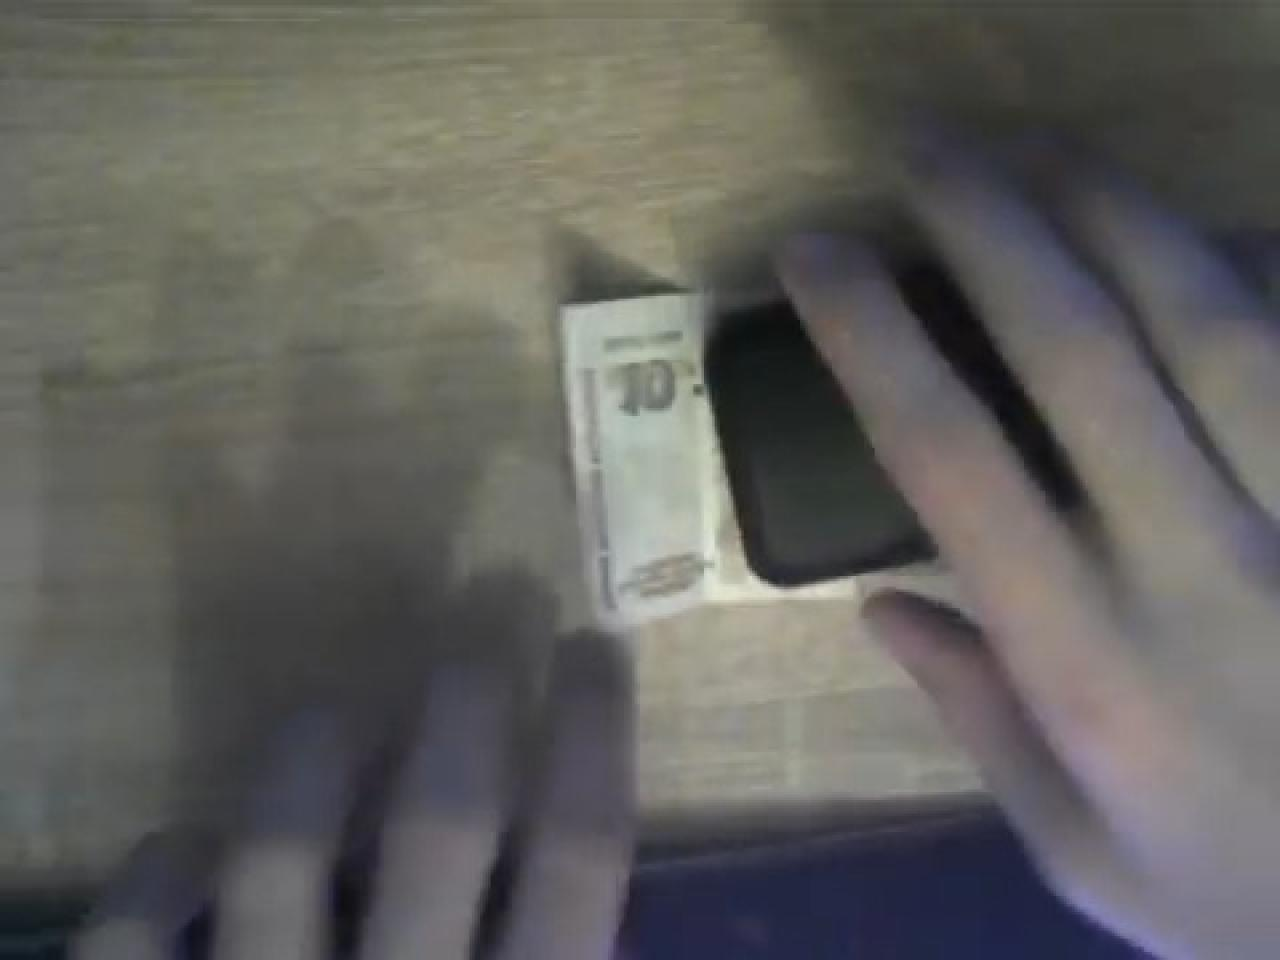10leva: (557, 288, 789, 626)
